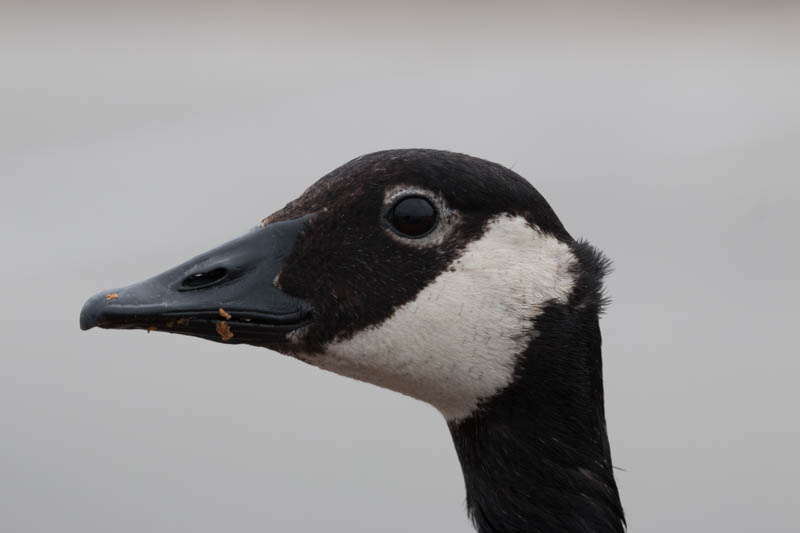goose-head: (78, 147, 604, 422)
